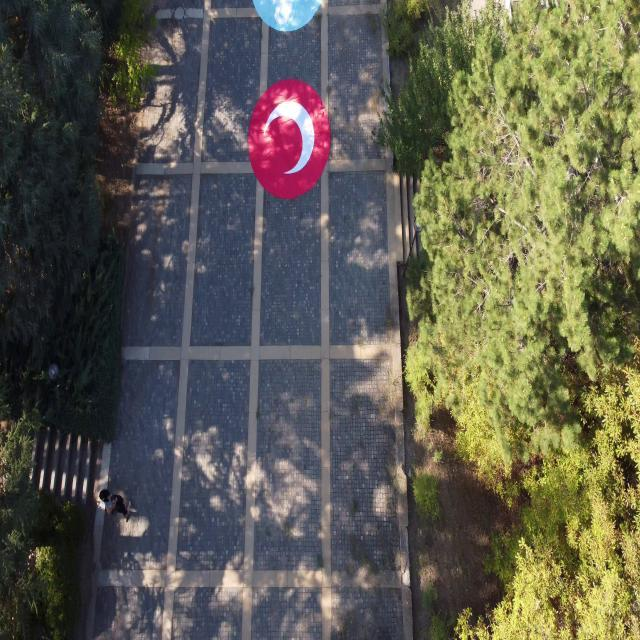vehicle: (248, 79, 330, 199), (252, 0, 324, 32), (110, 494, 134, 522), (99, 489, 115, 516)
